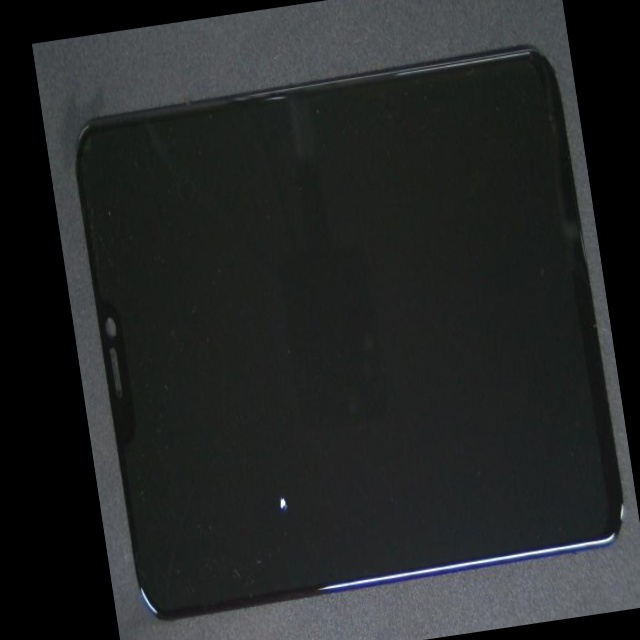stain: (164, 224, 395, 640)
